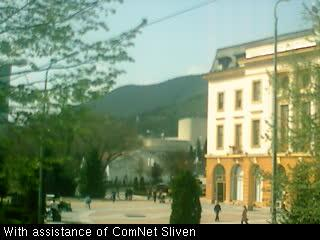person: (213, 201, 221, 222), (240, 205, 248, 224), (84, 196, 91, 210), (115, 183, 121, 199), (146, 185, 152, 201), (110, 191, 117, 204), (151, 188, 158, 201), (158, 189, 164, 203), (124, 188, 129, 200), (129, 188, 133, 200)
